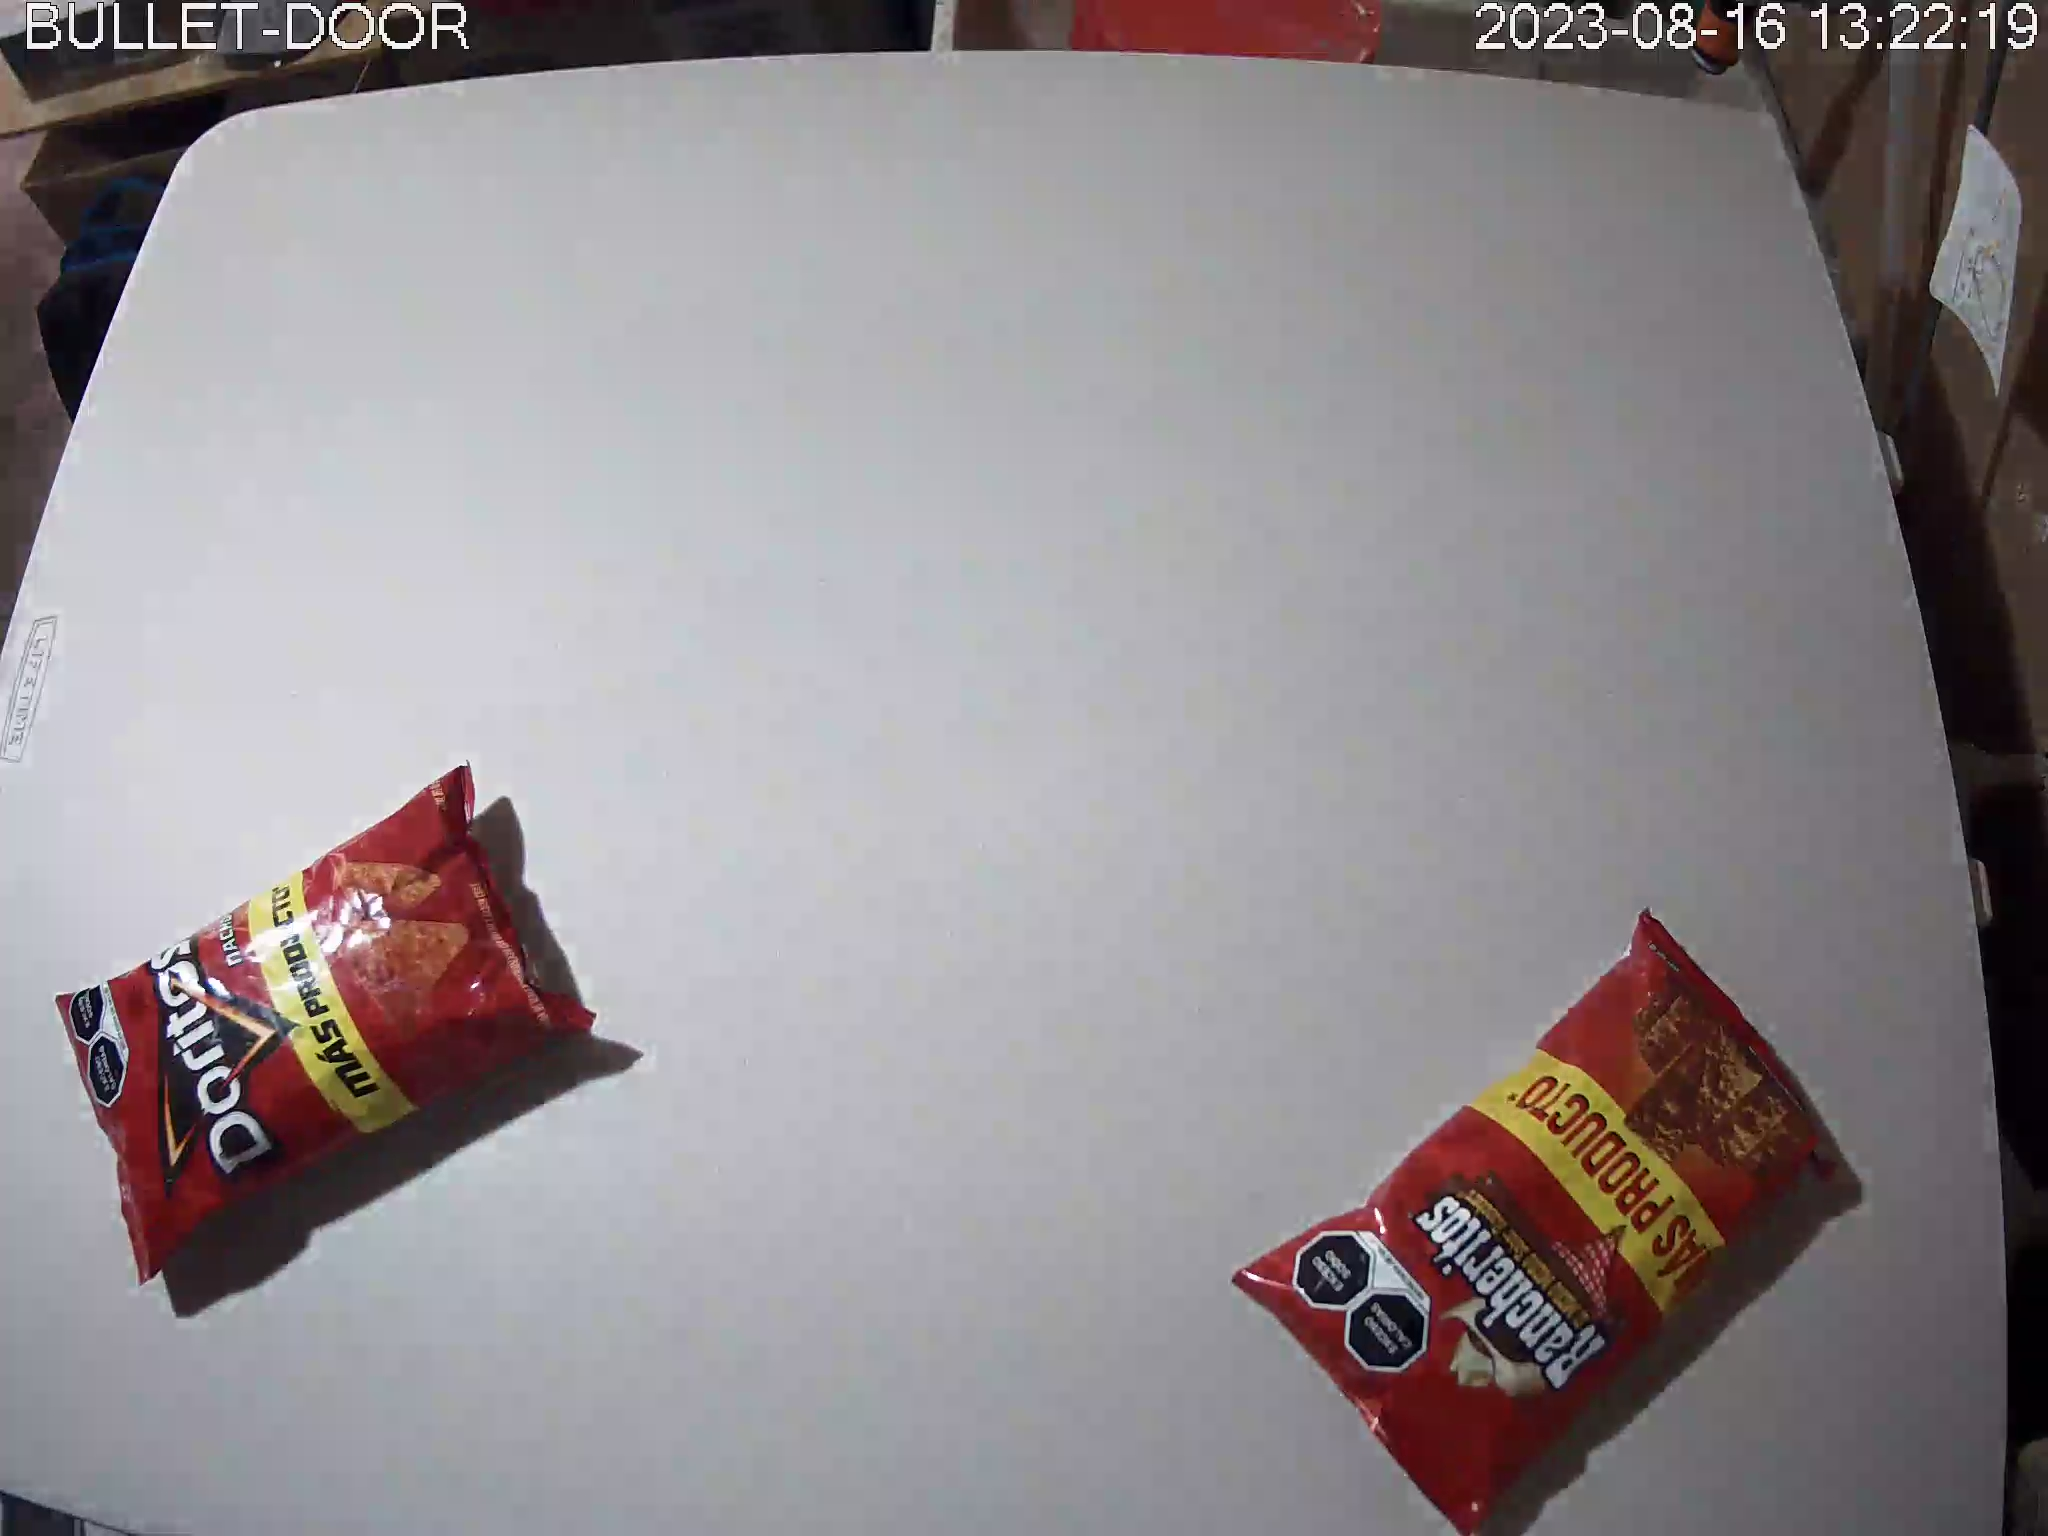DoritosN_61_F: (56, 757, 600, 1283)
Rancheritos_58_F: (1232, 910, 1858, 1536)
